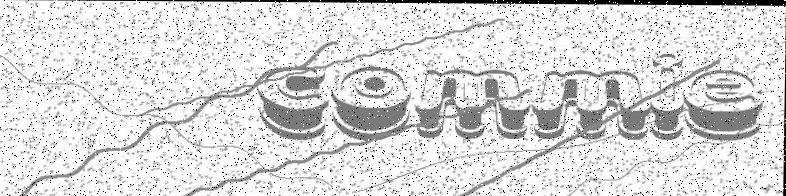c: (256, 64, 330, 142)
e: (684, 67, 765, 140)
i: (651, 51, 685, 141)
m: (532, 68, 651, 141), (414, 66, 531, 139)
o: (330, 64, 413, 141)
